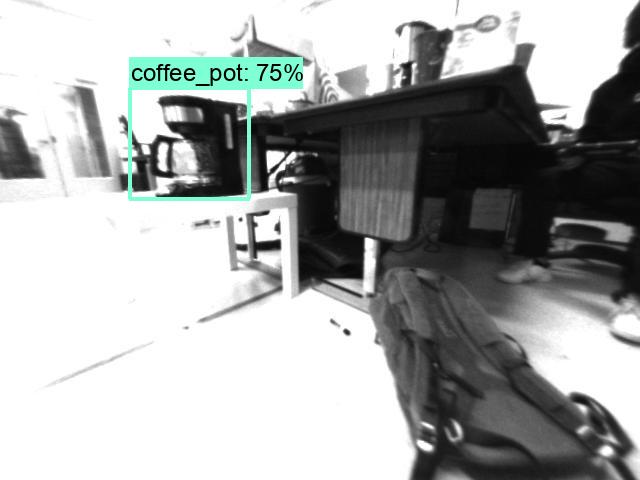coffee_pot: (142, 95, 247, 202)
